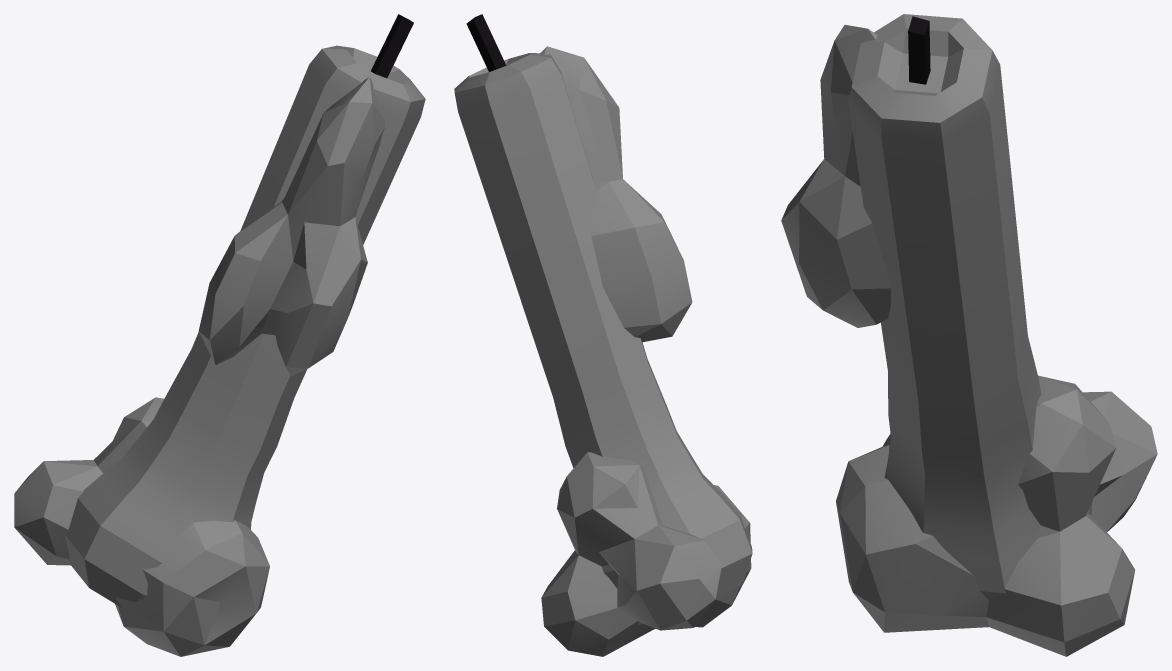
The model's file is ea_candle_01c_pre_5_lev1.glb.
3 renders of one model, left to right at view 1: azimuth 30°, elevation 25°; view 2: azimuth 150°, elevation 25°; view 3: azimuth 270°, elevation 25°, orthographic. The views are drawn at different scales.
Parts seen in each view (by area): view 1: ea_candle_01c_pre_5_lev1; view 2: ea_candle_01c_pre_5_lev1; view 3: ea_candle_01c_pre_5_lev1.
Boxes of the visible parts, left/top/right/bottom form: ea_candle_01c_pre_5_lev1: left=14, top=14, right=425, bottom=656; ea_candle_01c_pre_5_lev1: left=454, top=14, right=752, bottom=656; ea_candle_01c_pre_5_lev1: left=781, top=14, right=1157, bottom=656.
Bounding box in the file's own units: 0.5737 × 0.9537 × 0.4405.
Materials: 1 (1 with a texture image).
